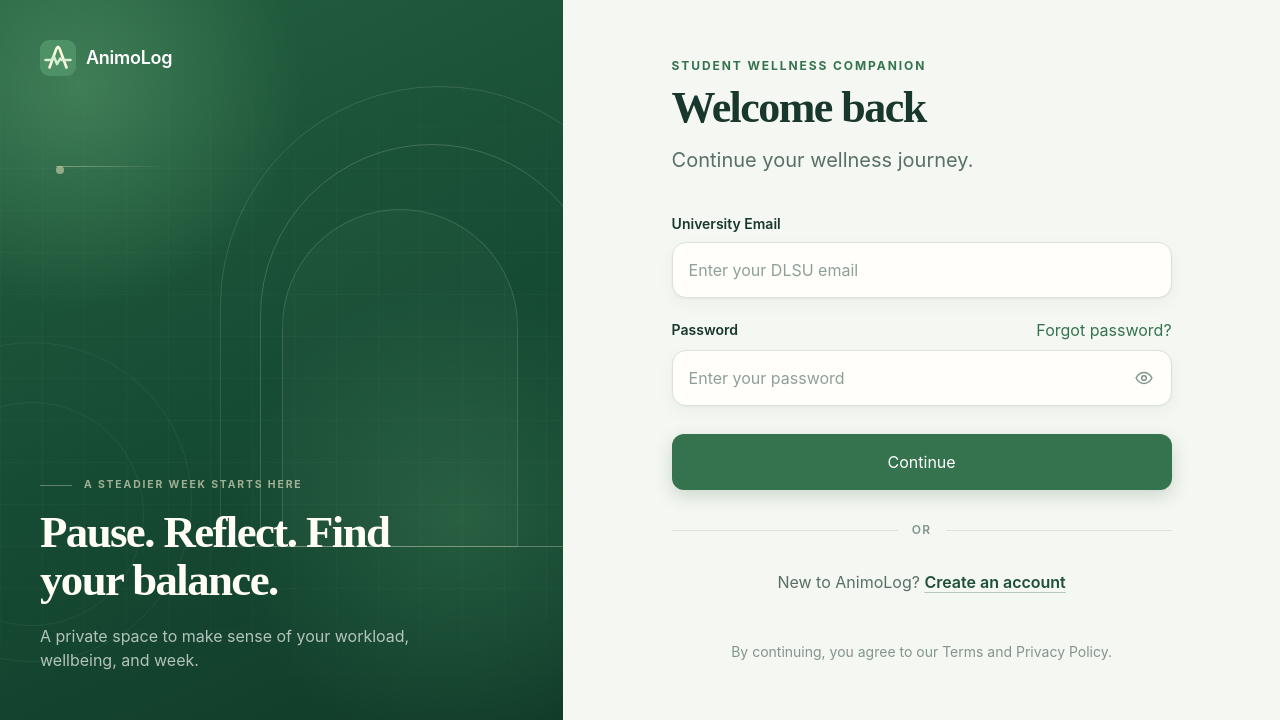
authentication forms › shows backend login errors and preserves the entered email
The width and height of the screenshot is (1280, 720).
Type "student@example.com" into the field labelled "University Email" at (922, 270), box [672,242,1172,298]
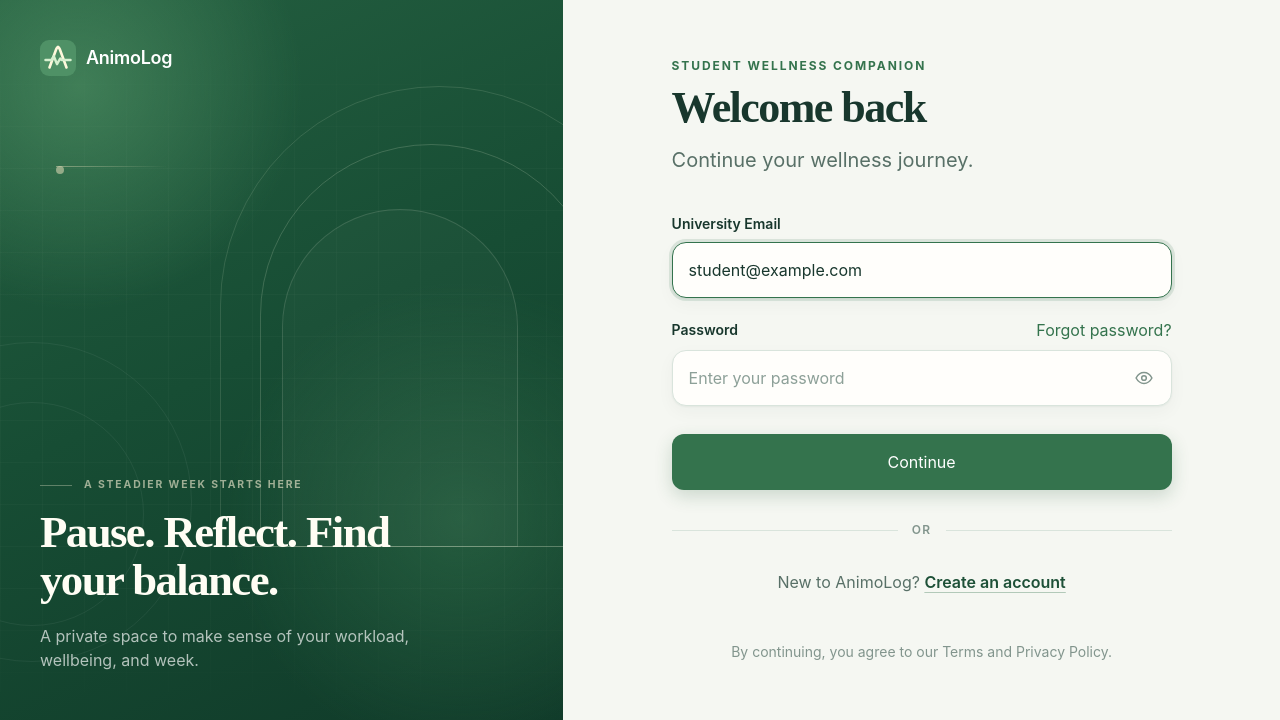
Type "wrong-password" into the password field labelled "Password" at (922, 378), box [672,350,1172,406]
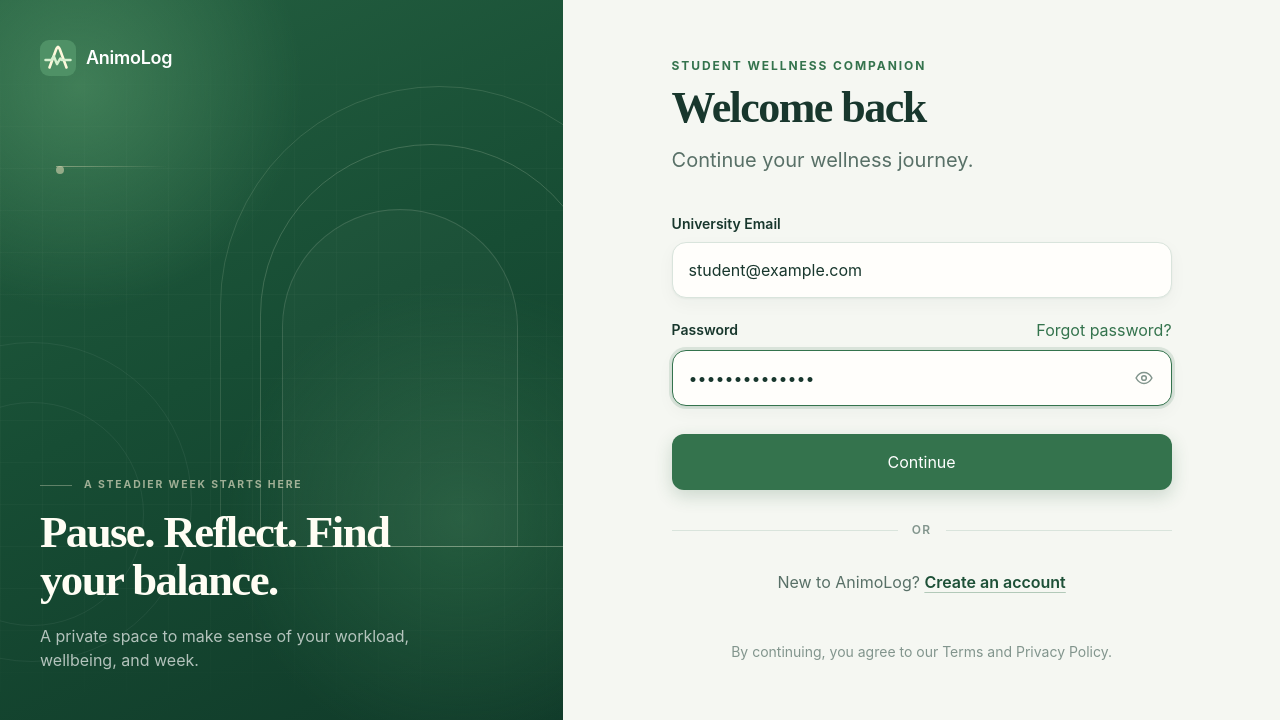
Click the button "Continue" at (922, 462), box [672,434,1172,490]
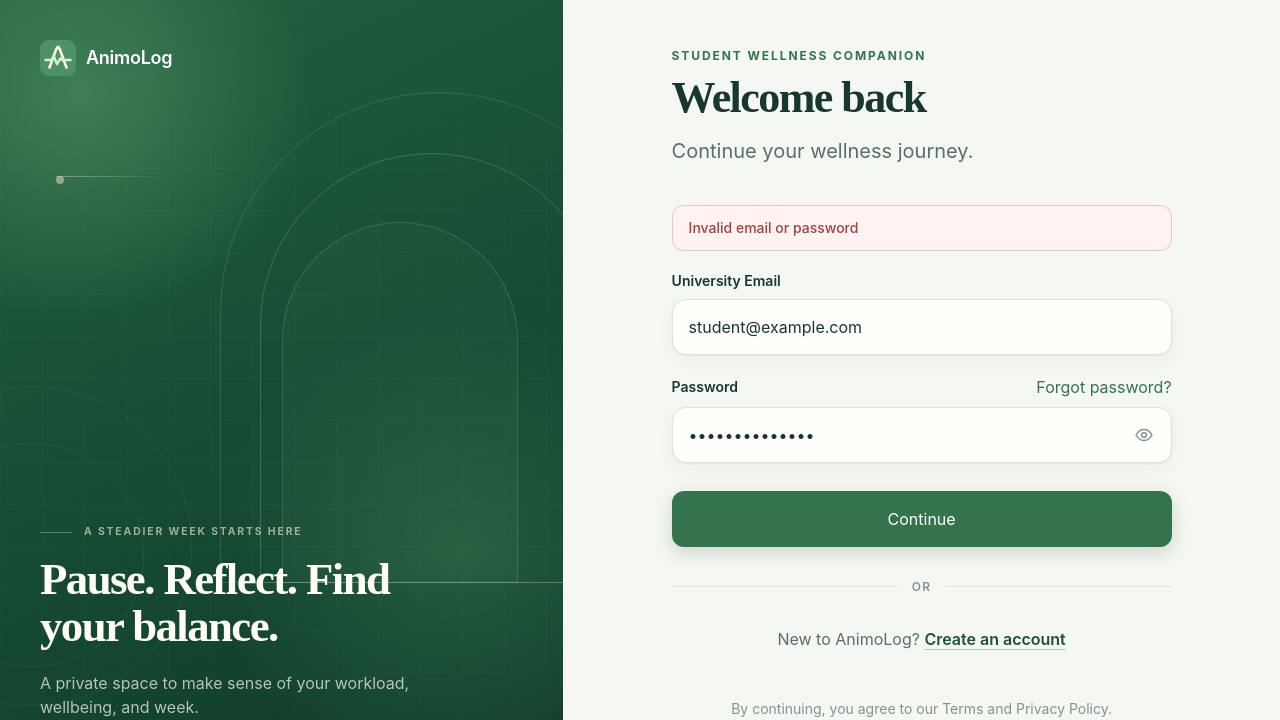
Check: the message reads "Invalid email or password", box [689,219,858,236]
